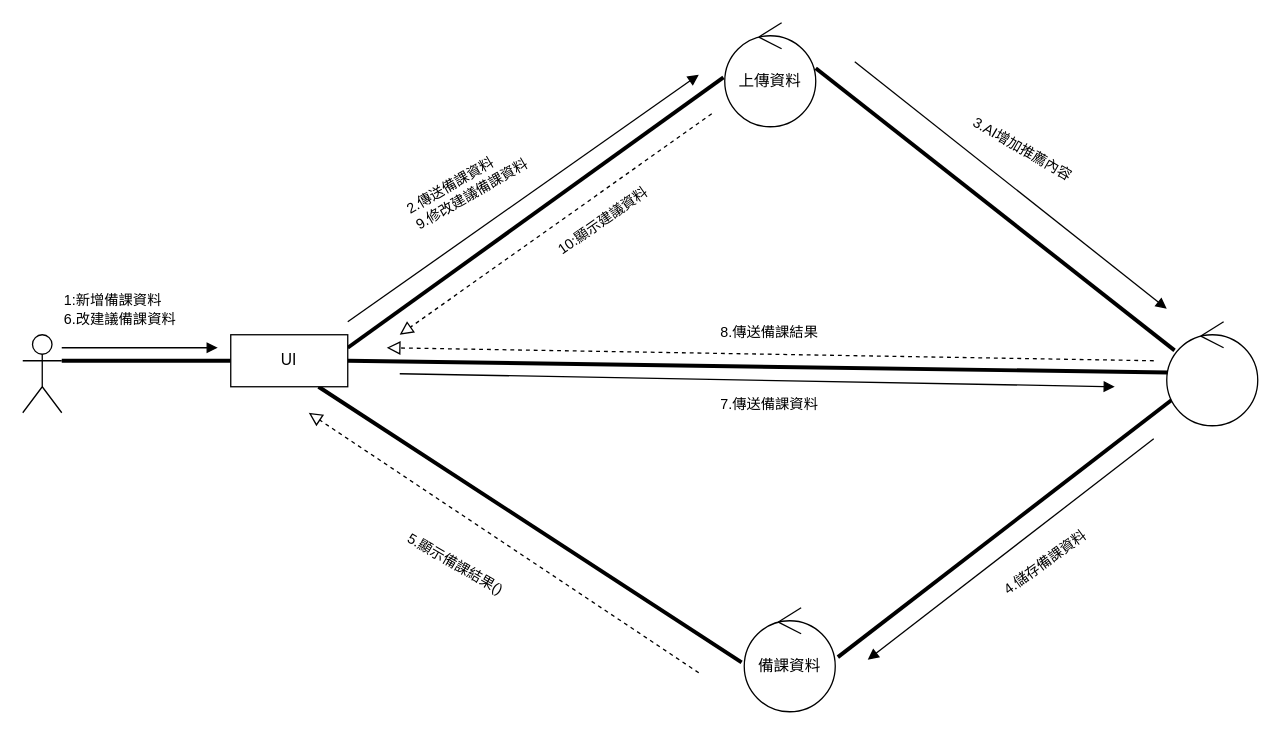
Image size: 1281x735. Some labels were removed from this diagram. Each missing label, with the centre of its shape:
:老師: the point at 41,373
AI生成推薦內容: the point at 1211,373
